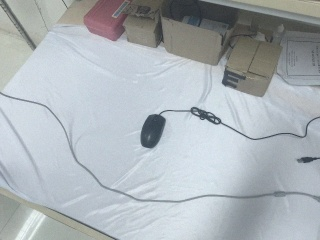box: (159, 1, 239, 66), (222, 34, 281, 97), (124, 4, 164, 48)
mouse: (140, 113, 166, 148)
